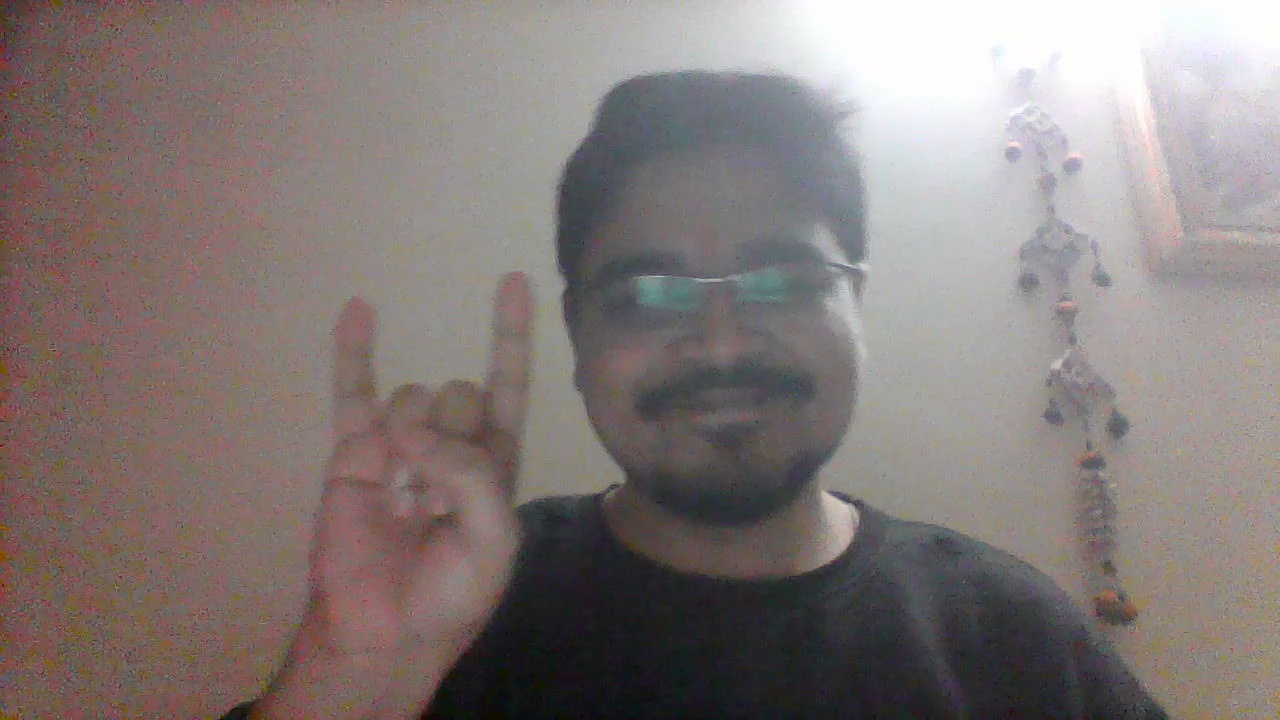ILoveYou: (299, 268, 541, 695)
